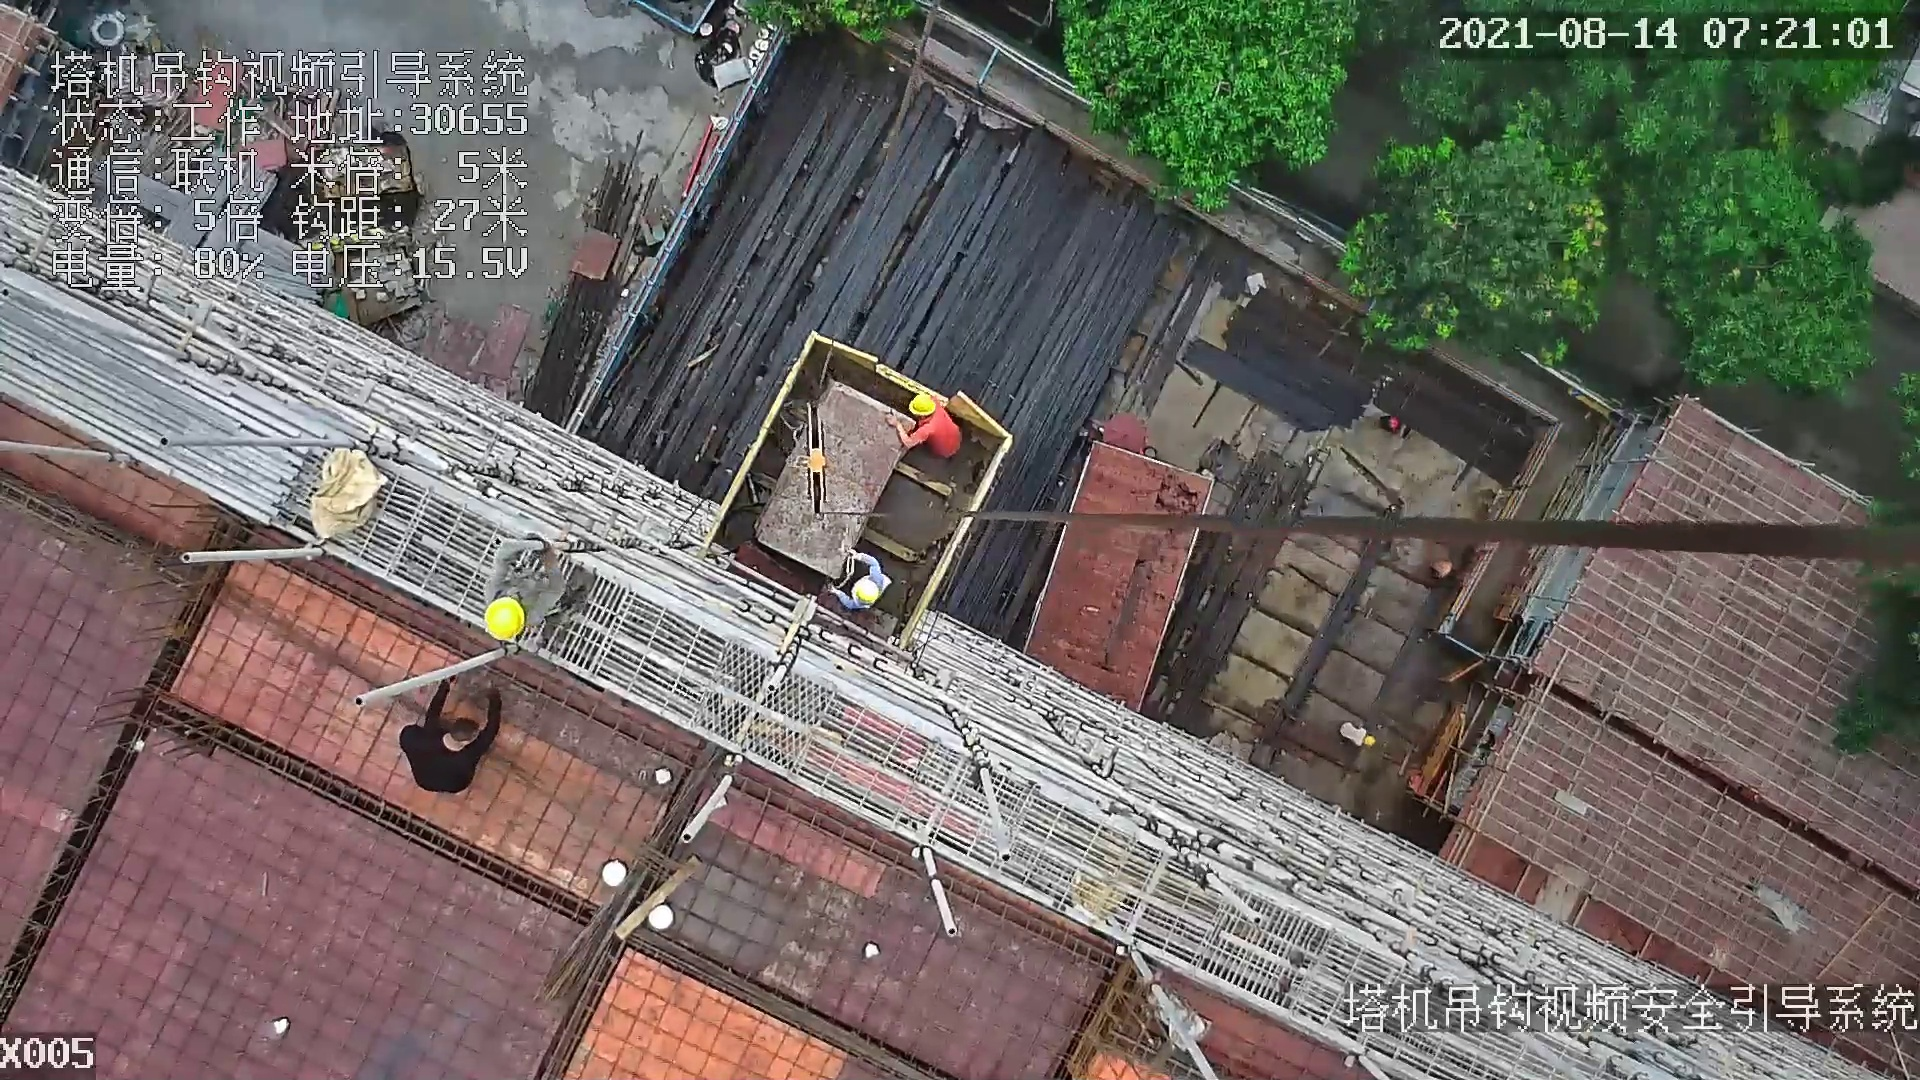helmet: (483, 595, 530, 642), (907, 389, 935, 422), (854, 579, 881, 610)
hook: (799, 401, 836, 521)
person: (377, 677, 515, 797), (486, 531, 583, 641), (879, 382, 967, 460), (832, 550, 892, 613)
